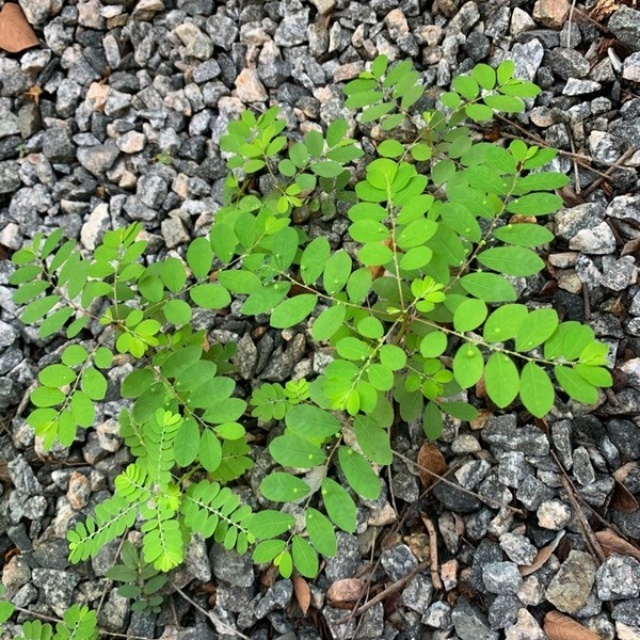obstacle: (38, 96, 555, 553)
